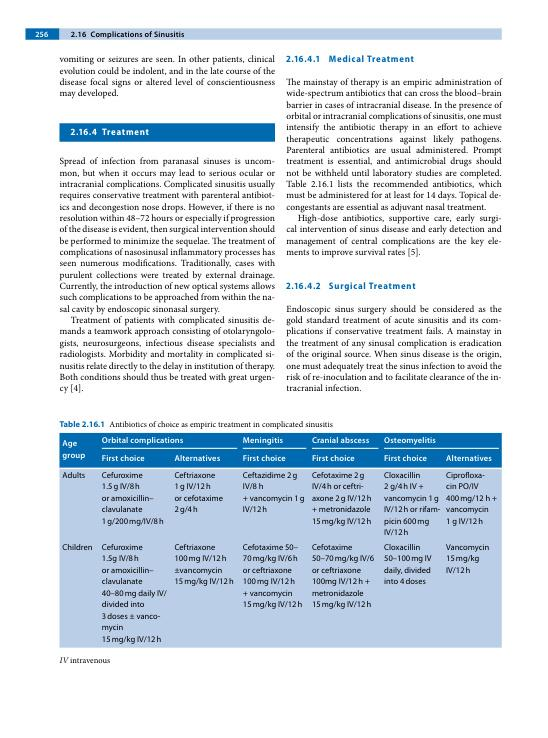caption: (58, 420, 334, 430)
header: (90, 30, 185, 40)
section-heading: (101, 127, 150, 137)
sub-section-heading: (328, 281, 417, 292), (327, 54, 415, 63)
table: (58, 432, 503, 669)
text: (58, 155, 276, 394), (285, 77, 503, 259), (285, 304, 502, 393), (58, 55, 277, 100)
